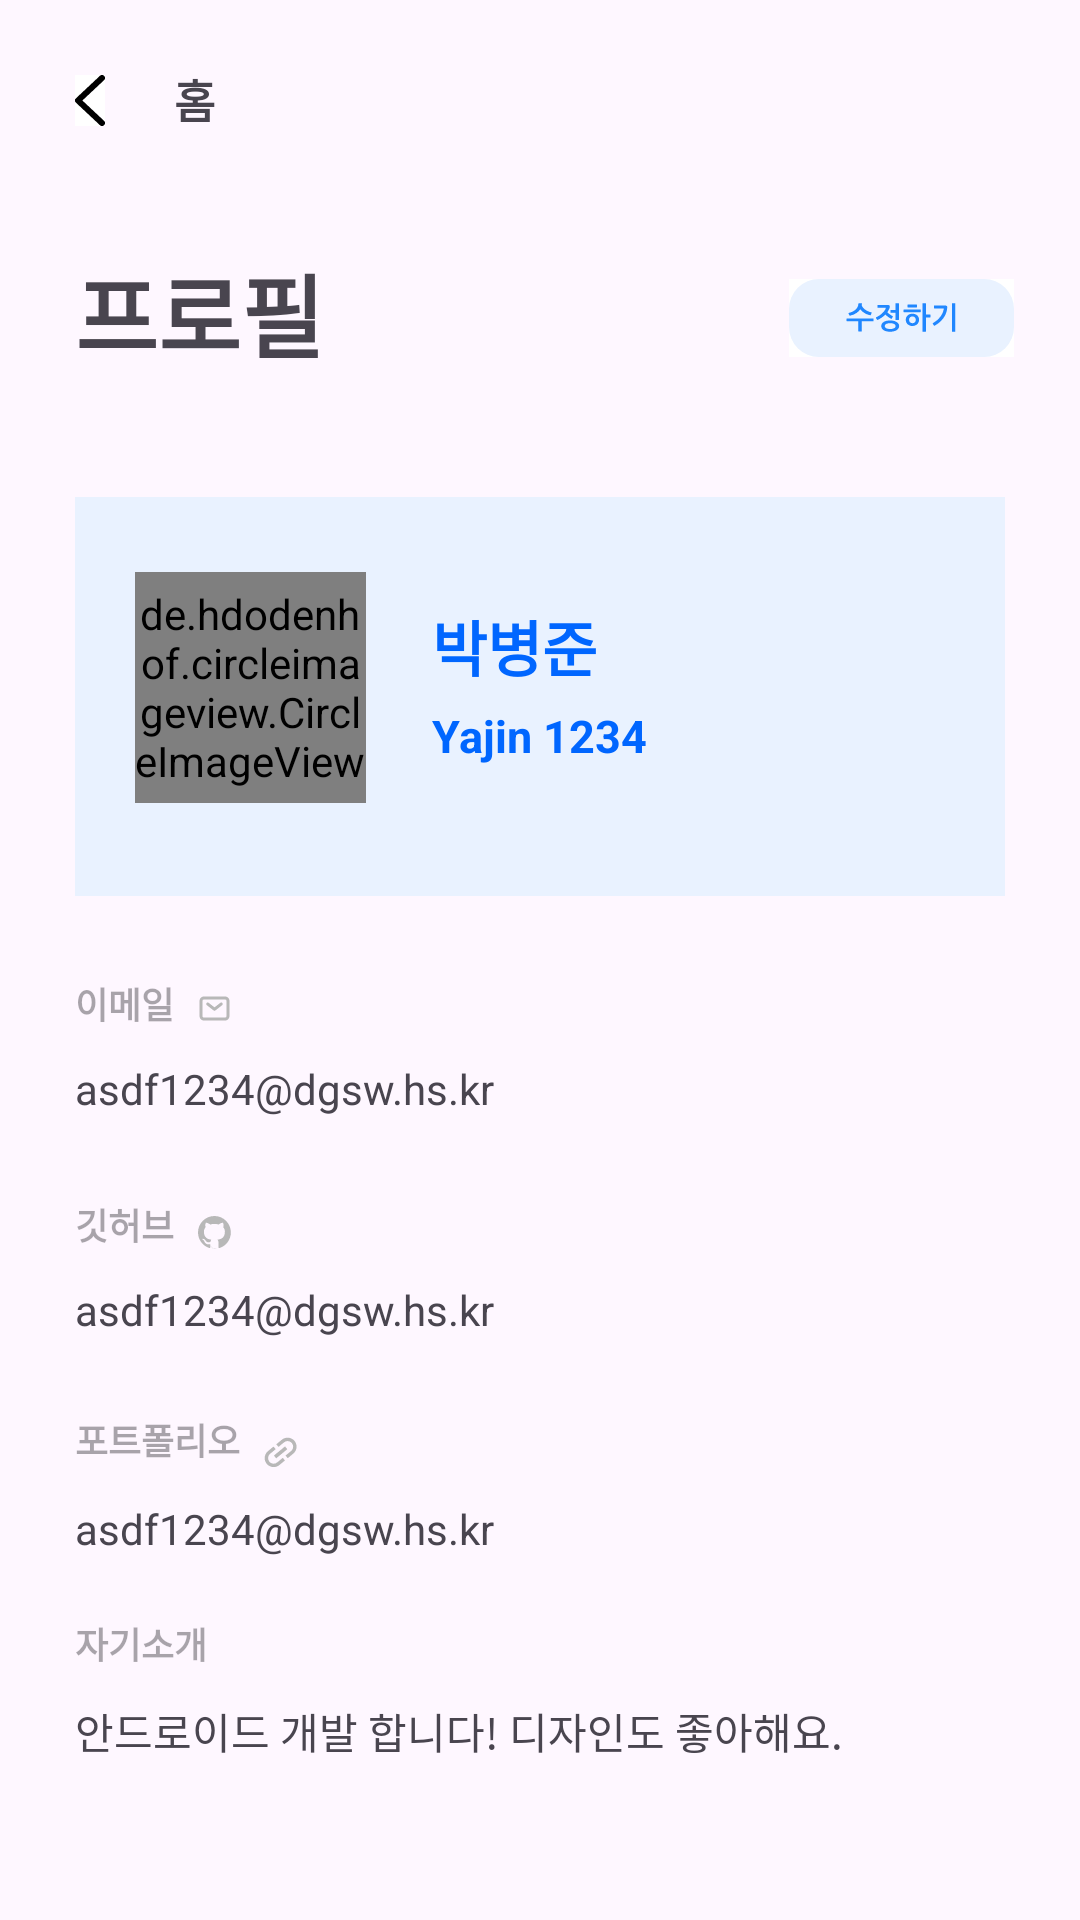

Screen size 1080×1920. Icon name, then its center in pixels as [x,y]:
back: [90,100]
link: [281,1452]
